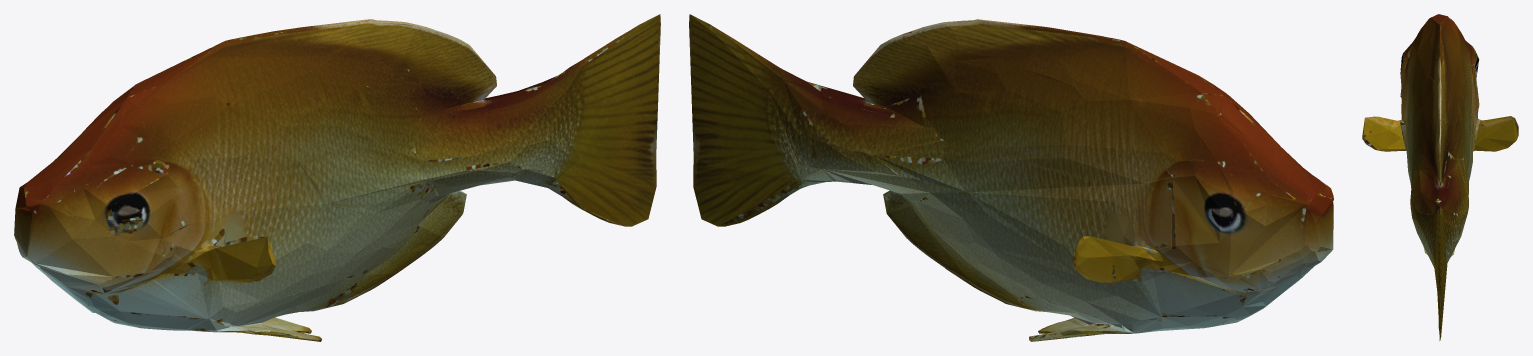
File: fish_0101_smpl23_resized.glb
3 views of the same model, side by side, from view 1: azimuth 30°, elevation 25°; view 2: azimuth 150°, elevation 25°; view 3: azimuth 270°, elevation 25° (orthographic). The views are drawn at different scales.
Parts seen in each view (by area): view 1: world; view 2: world; view 3: world.
Boxes of the visible parts, x1,y1,x2,y2 form: world: [14, 14, 660, 341]; world: [689, 14, 1333, 341]; world: [1362, 14, 1518, 340].
Bounding box in the file's own units: 1.98 × 0.9416 × 0.6453.
1 material, 1 textured.
